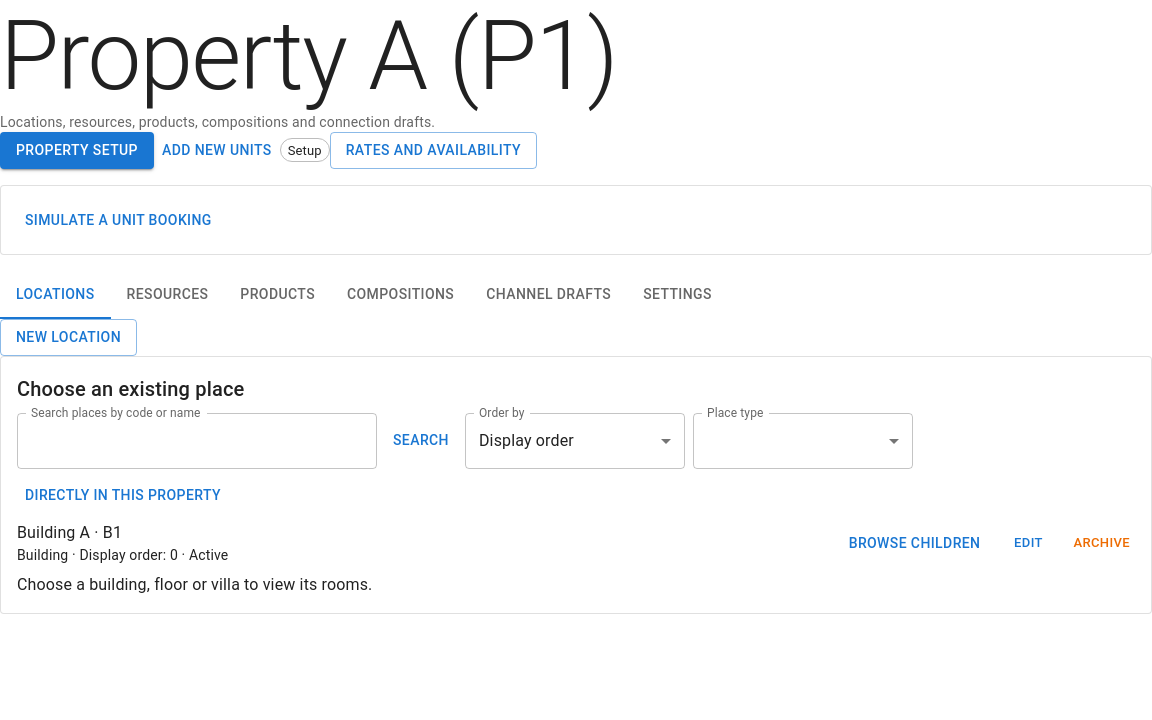
Test: independent: stale PATCH retains user input and requires explicit reload before new version
Click the button "Edit" at (1028, 543), box [996,528,1060,558]
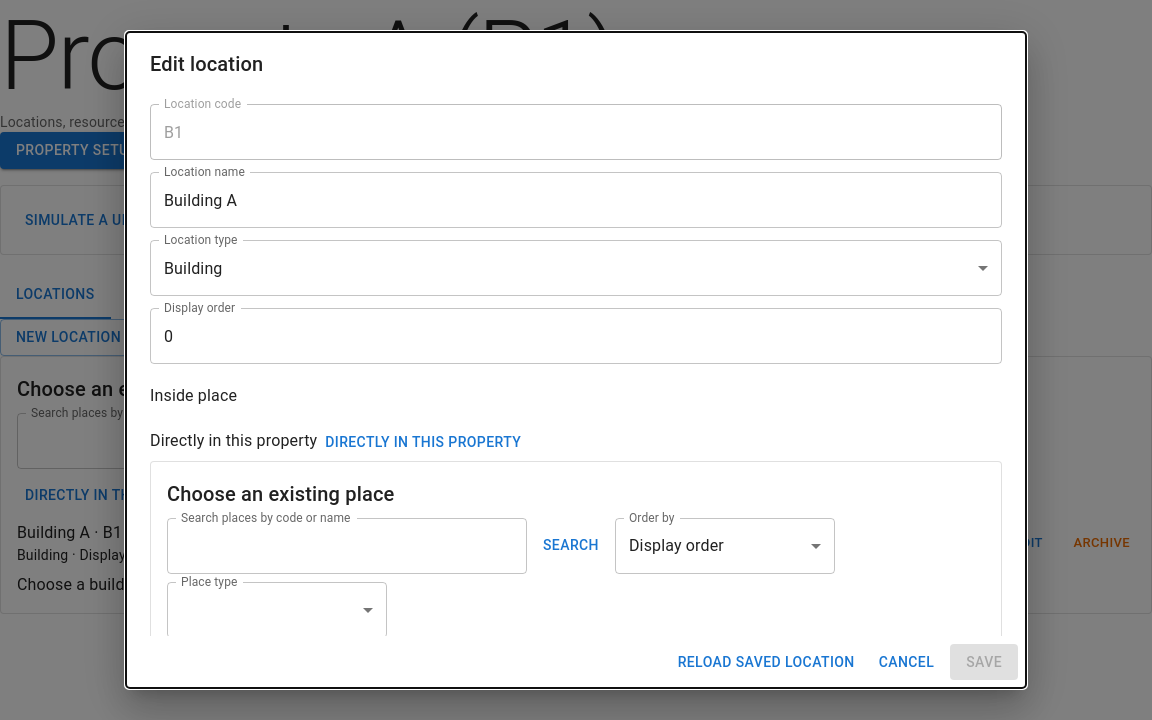
Replace the text in the field labelled "Location name" with "Unsaved intention" at (576, 200), box [150,172,1002,228]
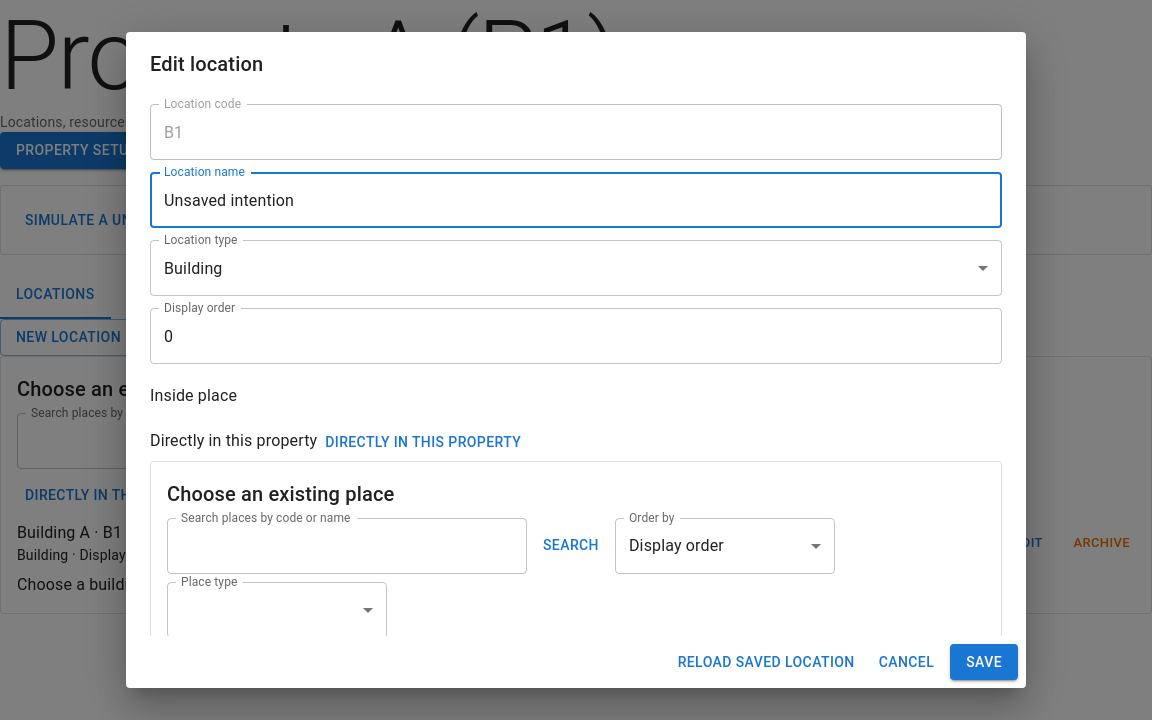
Click the button "Save" at (984, 662), box [950,644,1018,680]
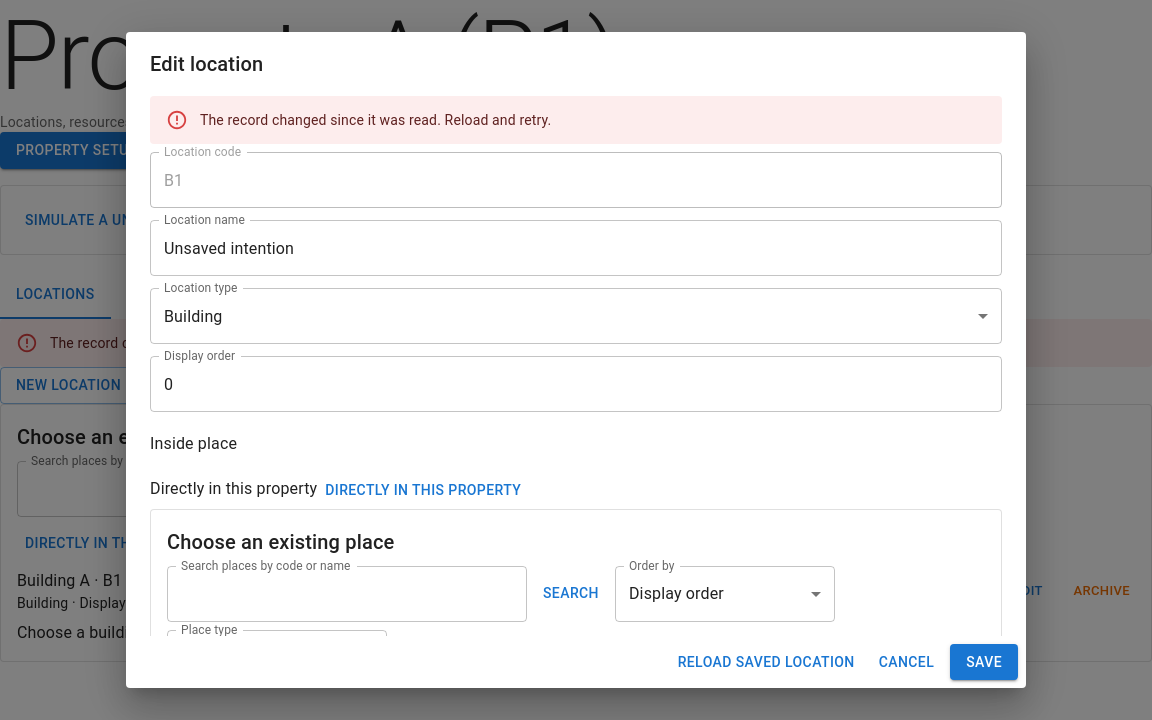
Now the button "Reload saved location" is enabled
Click the button "Reload saved location" at (766, 662), box [670,644,863,680]
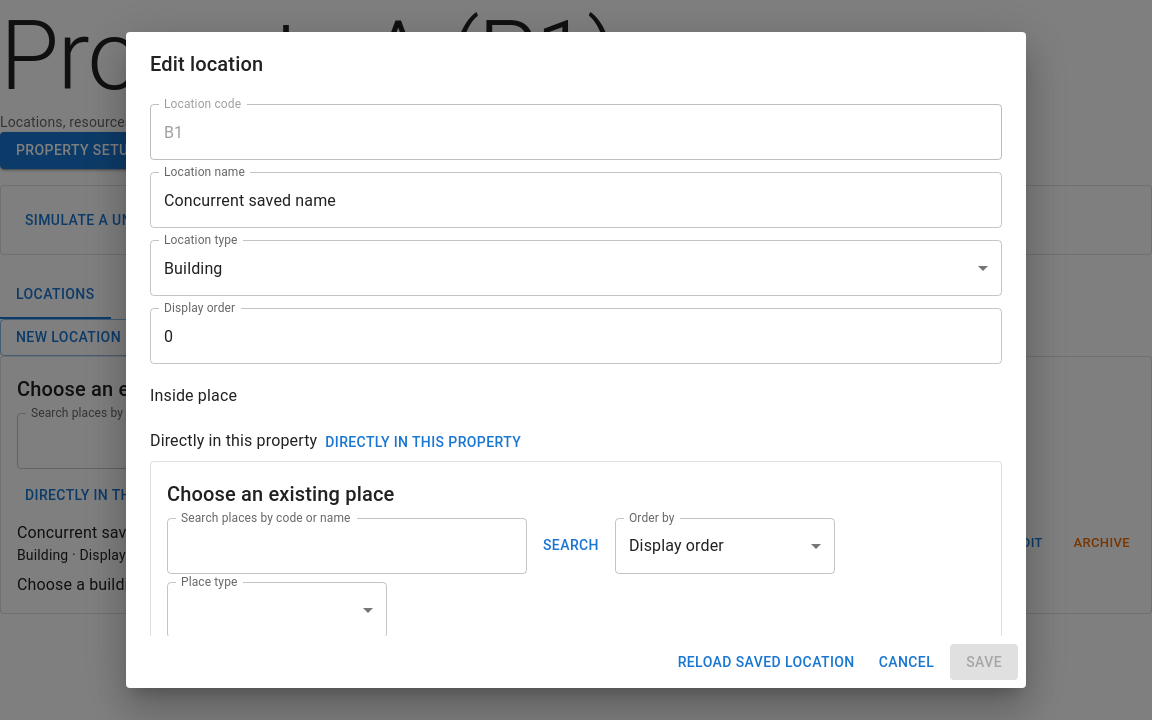
Now the field labelled "Location name" holds "Concurrent saved name", box [150,172,1002,228]
